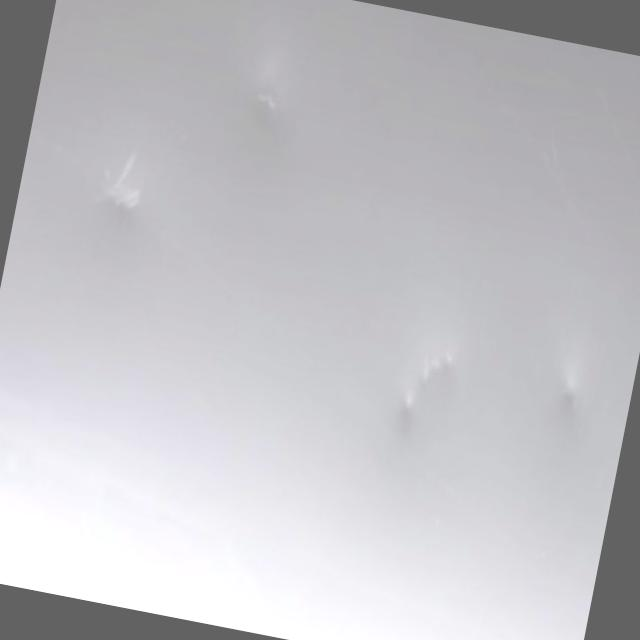dent: (349, 290, 474, 430), (74, 128, 182, 242), (228, 46, 314, 136), (544, 345, 590, 405)
